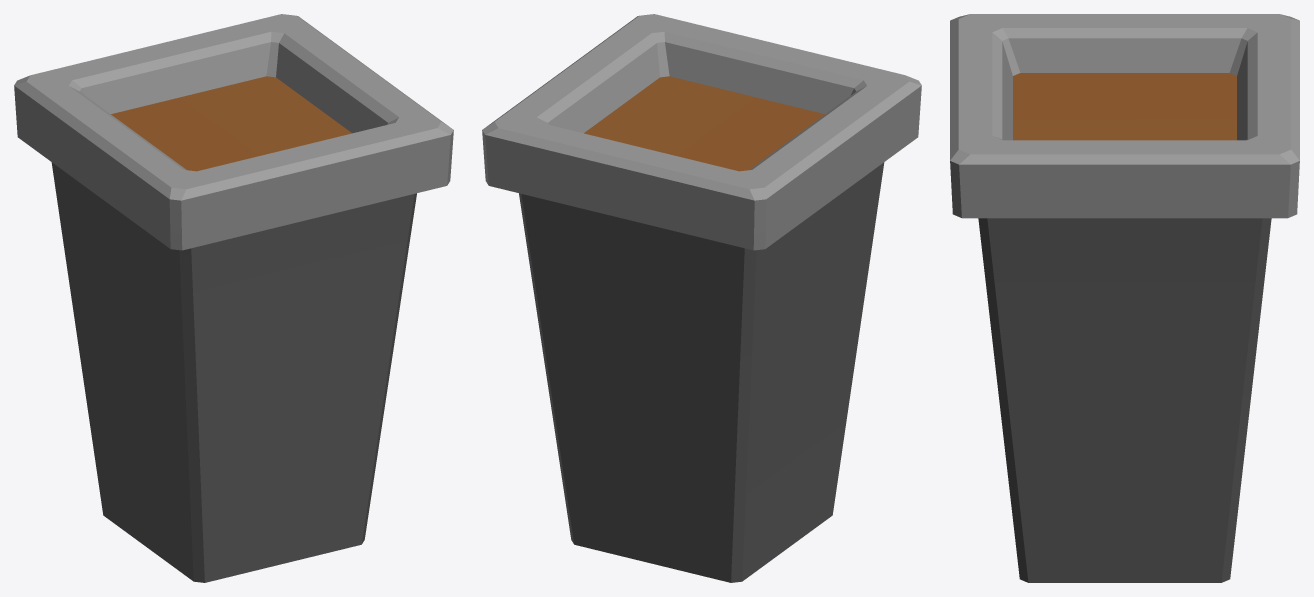
Rendered from PlantPot_2_B.fbx.
The picture shows the model from 3 angles, left to right: view 1: azimuth 30°, elevation 25°; view 2: azimuth 150°, elevation 25°; view 3: azimuth 270°, elevation 25°; orthographic projection. The views are drawn at different scales.
Parts seen in each view (by area): view 1: PlantPot_2_B; view 2: PlantPot_2_B; view 3: PlantPot_2_B.
Boxes of the visible parts, x1,y1,x2,y2 form: PlantPot_2_B: (14,14,453,582); PlantPot_2_B: (482,14,921,582); PlantPot_2_B: (950,14,1299,582).
Bounding box in the file's own units: 36.24 × 51.92 × 36.24.
